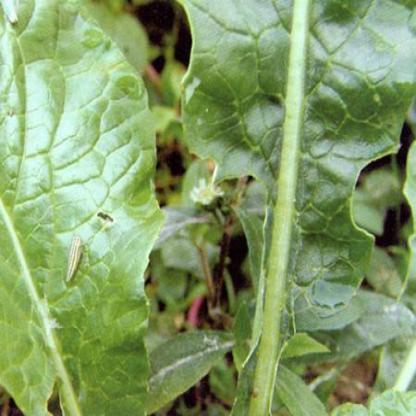Green-Leafhopper: (64, 231, 86, 282)
